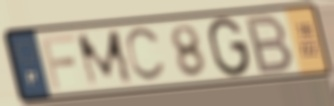8: (168, 23, 208, 78)
B: (244, 12, 296, 77)
C: (123, 25, 168, 84)
F: (38, 32, 78, 92)
G: (206, 15, 253, 79)
M: (74, 27, 137, 91)
